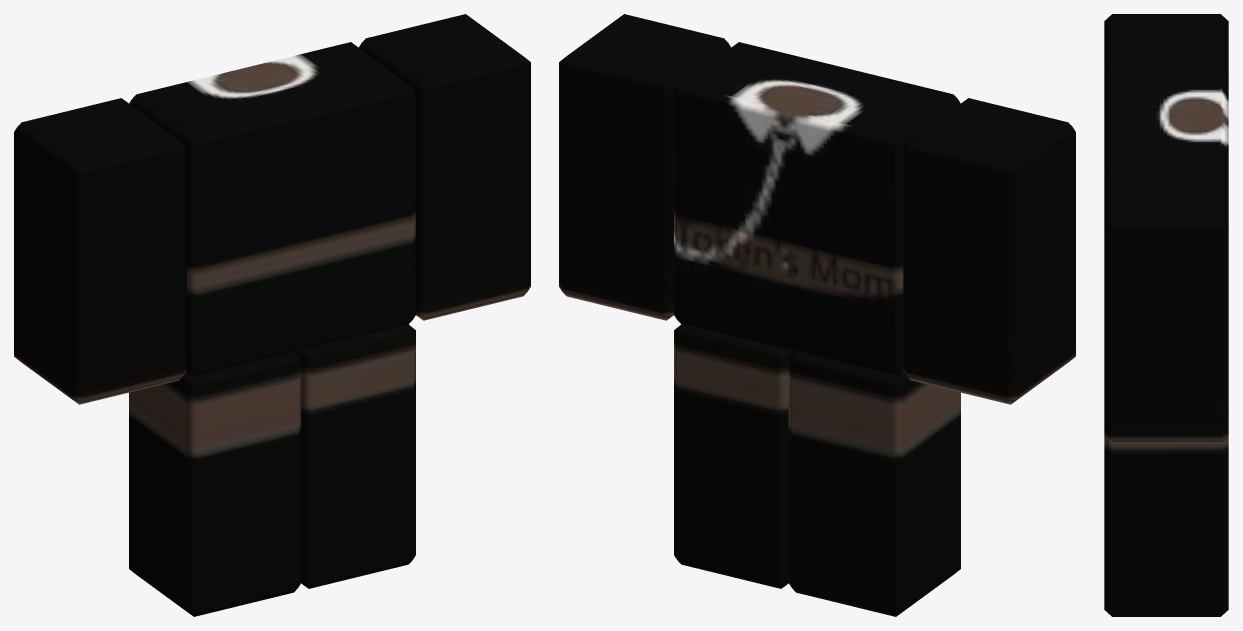
3 renders of one model, left to right at view 1: azimuth 30°, elevation 25°; view 2: azimuth 150°, elevation 25°; view 3: azimuth 270°, elevation 25°, orthographic. The views are drawn at different scales.
Parts seen in each view (by area): view 1: Player5, Player4, Player2, Player3, Player1; view 2: Player5, Player4, Player2, Player3, Player1; view 3: Player3, Player1, Player5, Player4.
Part boxes in pixels (bbox=[...]): Player5: bbox=[129, 42, 415, 376]; Player4: bbox=[14, 98, 186, 404]; Player2: bbox=[129, 352, 301, 616]; Player3: bbox=[359, 14, 530, 320]; Player1: bbox=[294, 324, 415, 588]; Player5: bbox=[674, 42, 960, 376]; Player4: bbox=[903, 98, 1075, 404]; Player2: bbox=[788, 352, 960, 616]; Player3: bbox=[559, 14, 730, 320]; Player1: bbox=[674, 324, 795, 588]; Player3: bbox=[1104, 172, 1228, 443]; Player1: bbox=[1104, 437, 1228, 616]; Player5: bbox=[1104, 66, 1228, 178]; Player4: bbox=[1104, 14, 1228, 73].
Size of the model in its own units: 4 by 4 by 1.
1 material, 1 textured.
